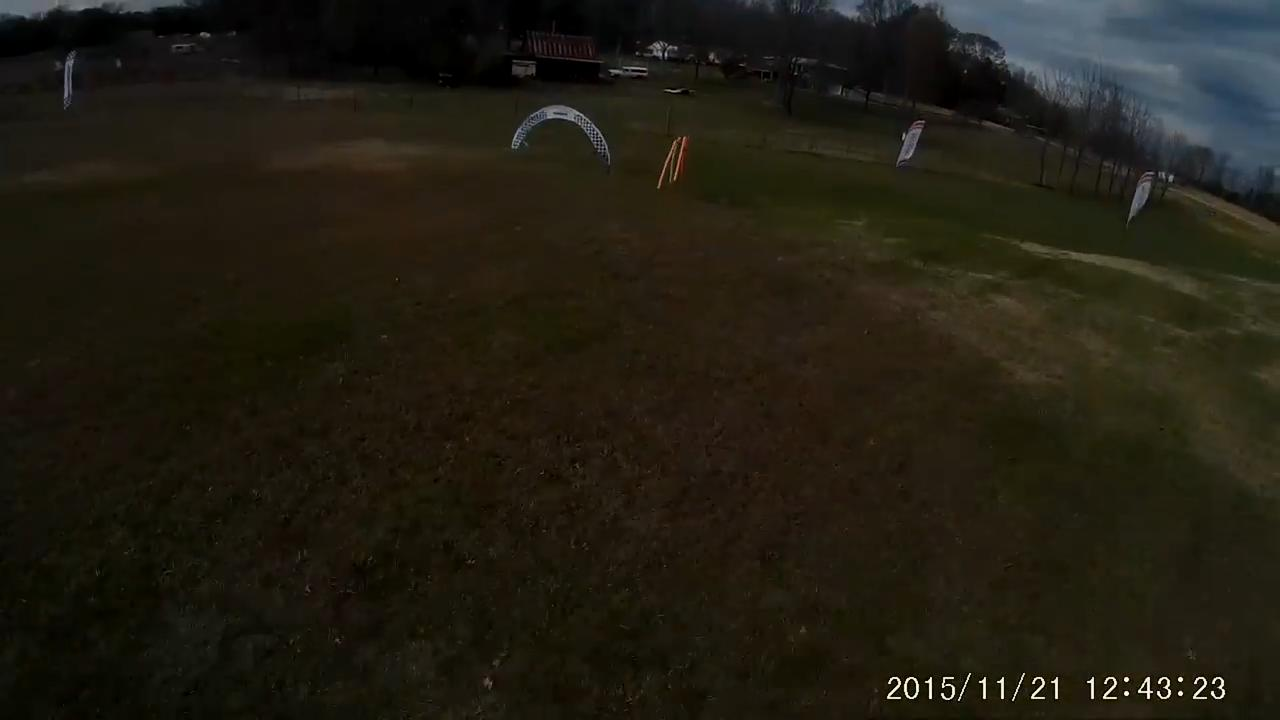gate: (508, 103, 610, 161)
